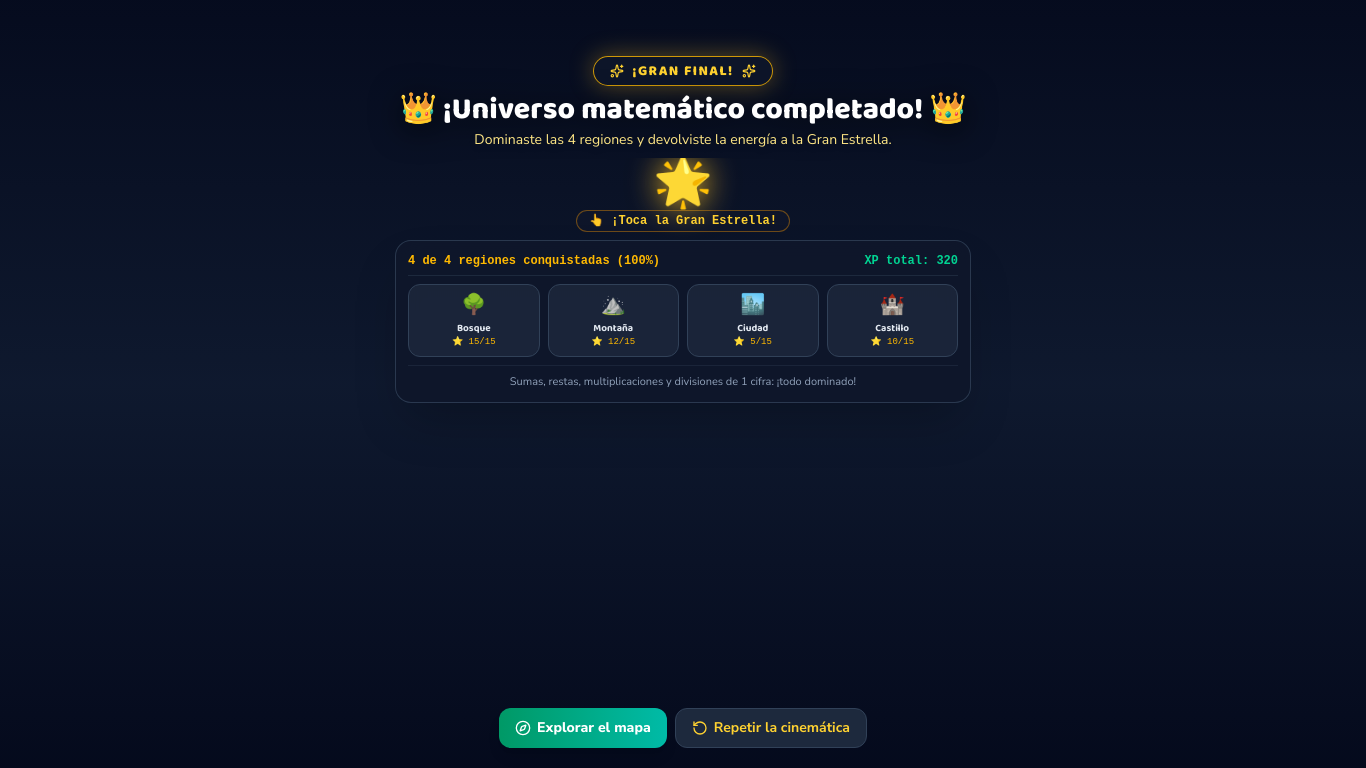
Scenario: UniverseCompleteOverlay › la Gran Estrella es un botón: da chispa, suena y lanza confeti; el contador se pluraliza
Click the button "🌟 👆 ¡Toca la Gran Estrella!" at [683, 195], box [576,158,790,232]
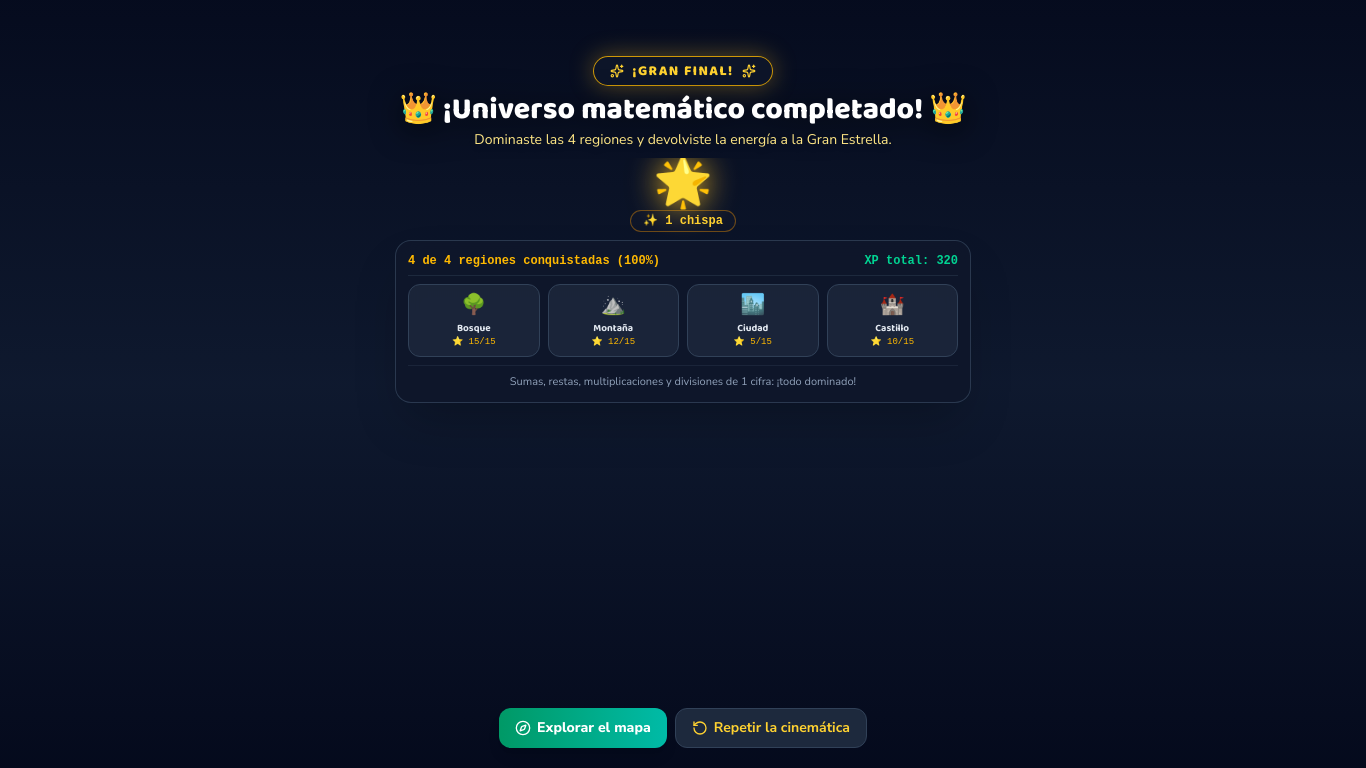
expect the button with aria-label "Gran Estrella" shows "1 chispa": met
Click the button with aria-label "Gran Estrella" at [683, 195], box [630,158,736,232]
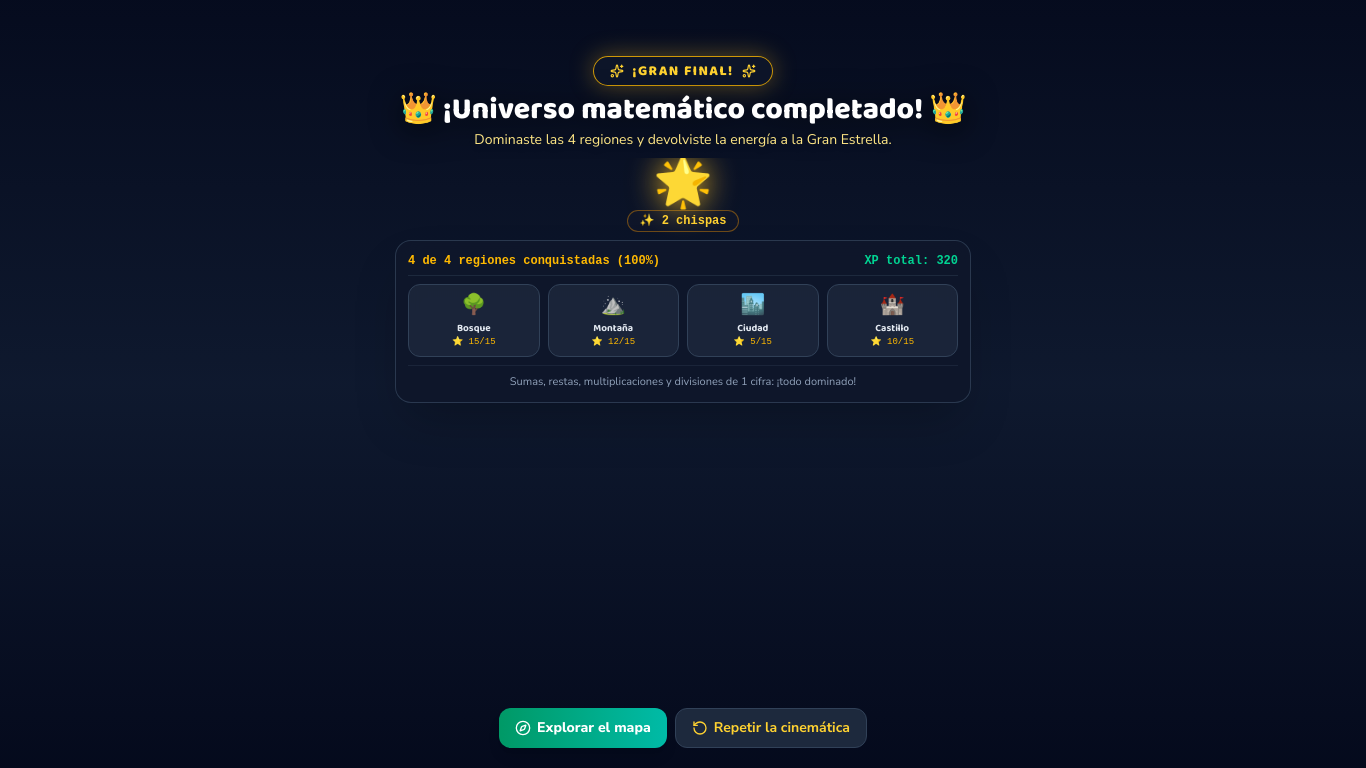
expect the button with aria-label "Gran Estrella" shows "2 chispas": met, box [626,158,740,232]
